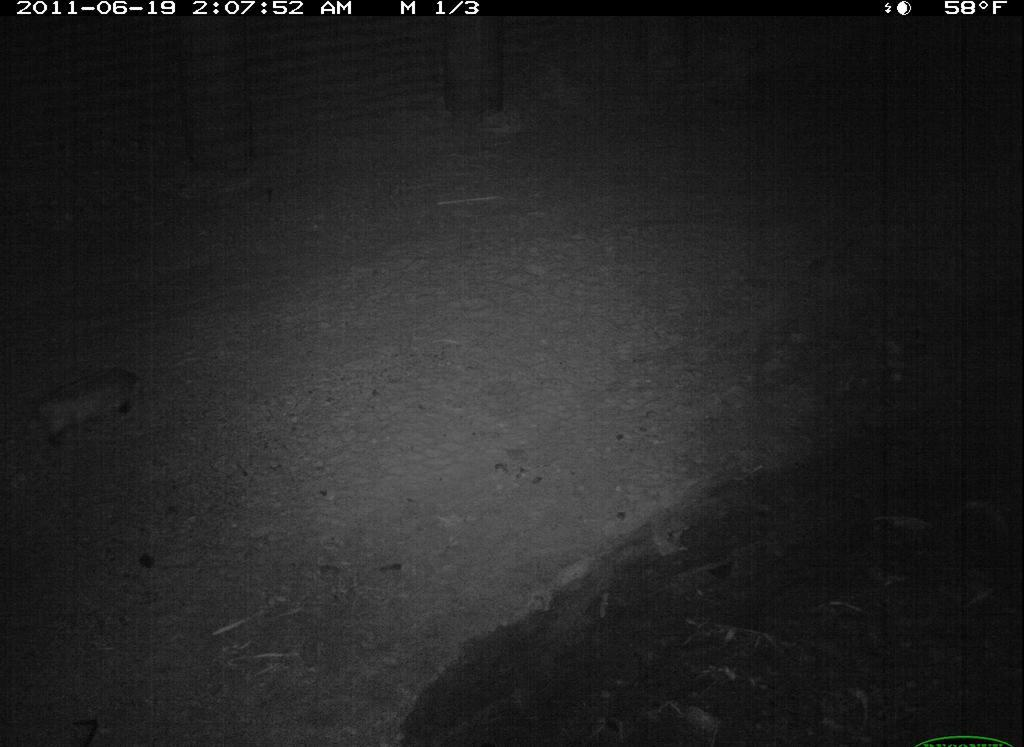badger: (18, 363, 153, 452)
